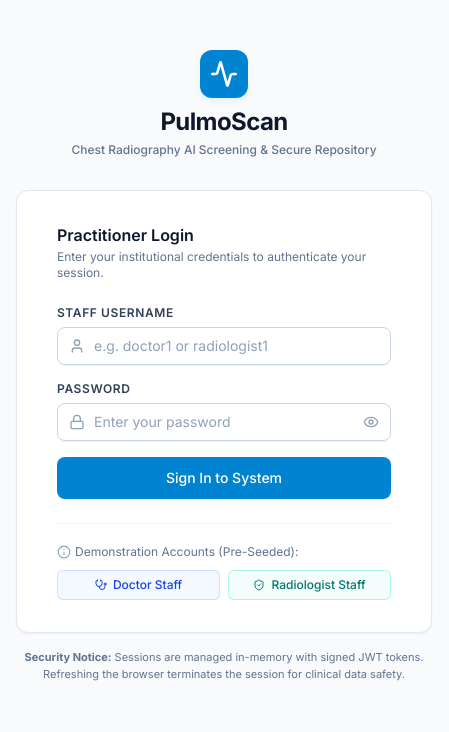
it: LoginPage › displays API error alert when authentication fails
Type "doctor1" into the field labelled "Staff Username".
click(224, 346); type("doctor1")  # box left=57, top=327, right=391, bottom=365
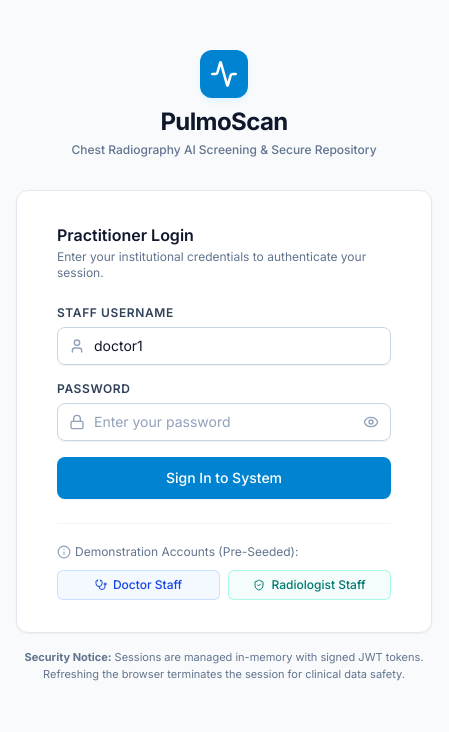
Type "WrongPassword" into the password field labelled "Password".
click(224, 422); type("WrongPassword")  # box left=57, top=403, right=391, bottom=441
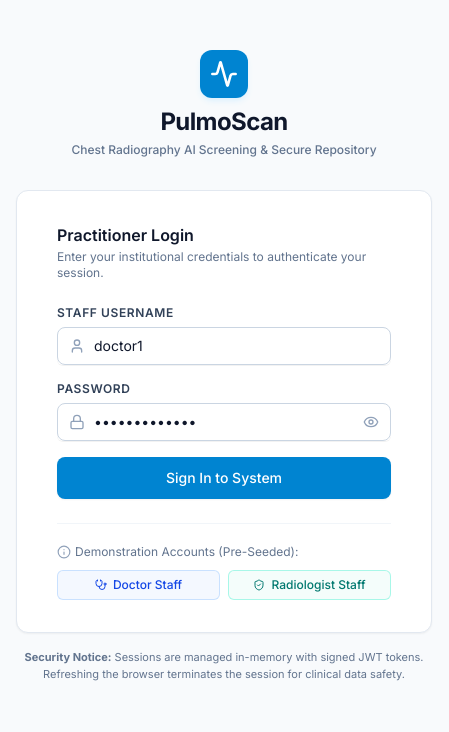
Click the button "Sign In to System".
click(224, 478)  # box left=57, top=457, right=391, bottom=499
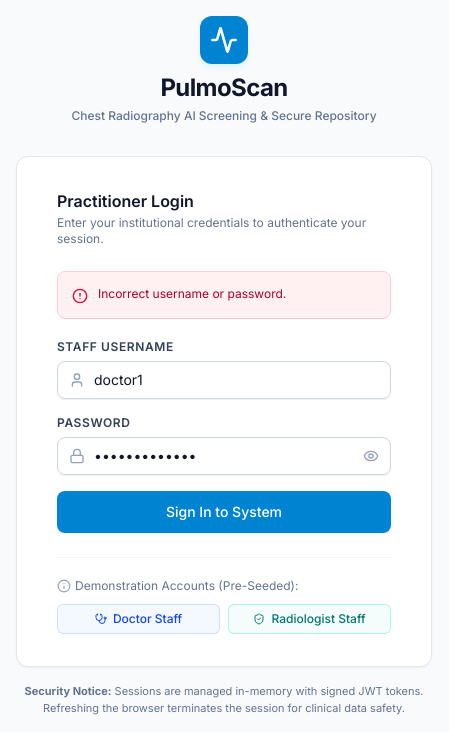
Result: the text "Incorrect username or password." is shown at left=98, top=286, right=286, bottom=302
